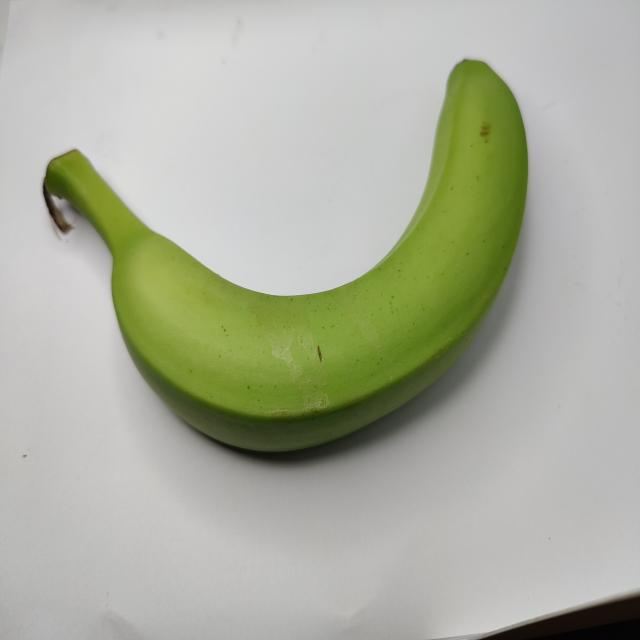raw: (26, 24, 542, 495)
